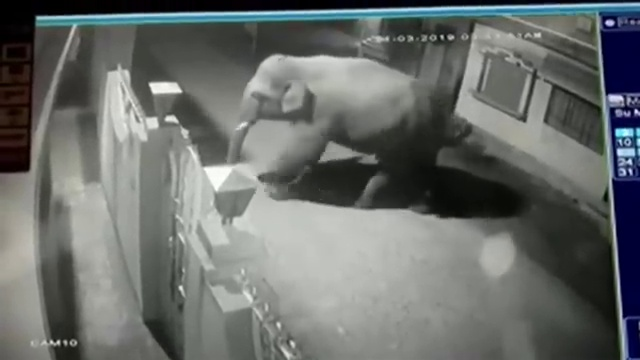Elephant: (228, 54, 435, 215)
